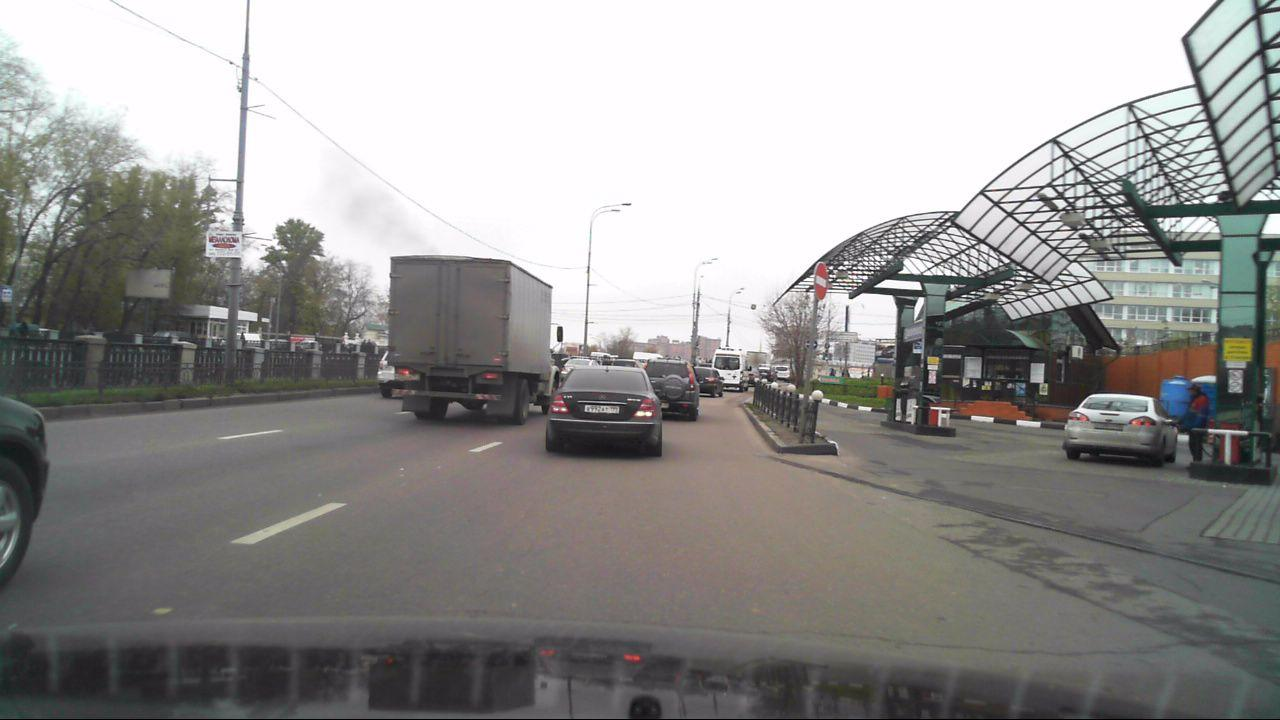road_sign: (813, 260, 828, 301)
